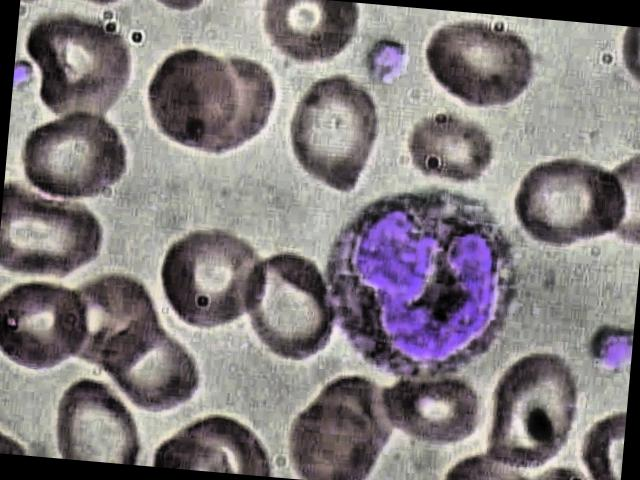Platelets: (578, 310, 634, 378), (362, 34, 412, 91)
RBC: (232, 239, 348, 369), (477, 345, 590, 475), (17, 12, 138, 130), (502, 152, 628, 264), (150, 223, 270, 338), (14, 102, 136, 213), (95, 314, 220, 422), (280, 69, 384, 196), (412, 18, 540, 120), (0, 179, 115, 292), (134, 43, 240, 165), (0, 274, 93, 380), (370, 368, 488, 451), (49, 372, 150, 464), (279, 392, 383, 480), (398, 105, 500, 191), (252, 0, 363, 70)
WBC: (313, 178, 526, 390)
